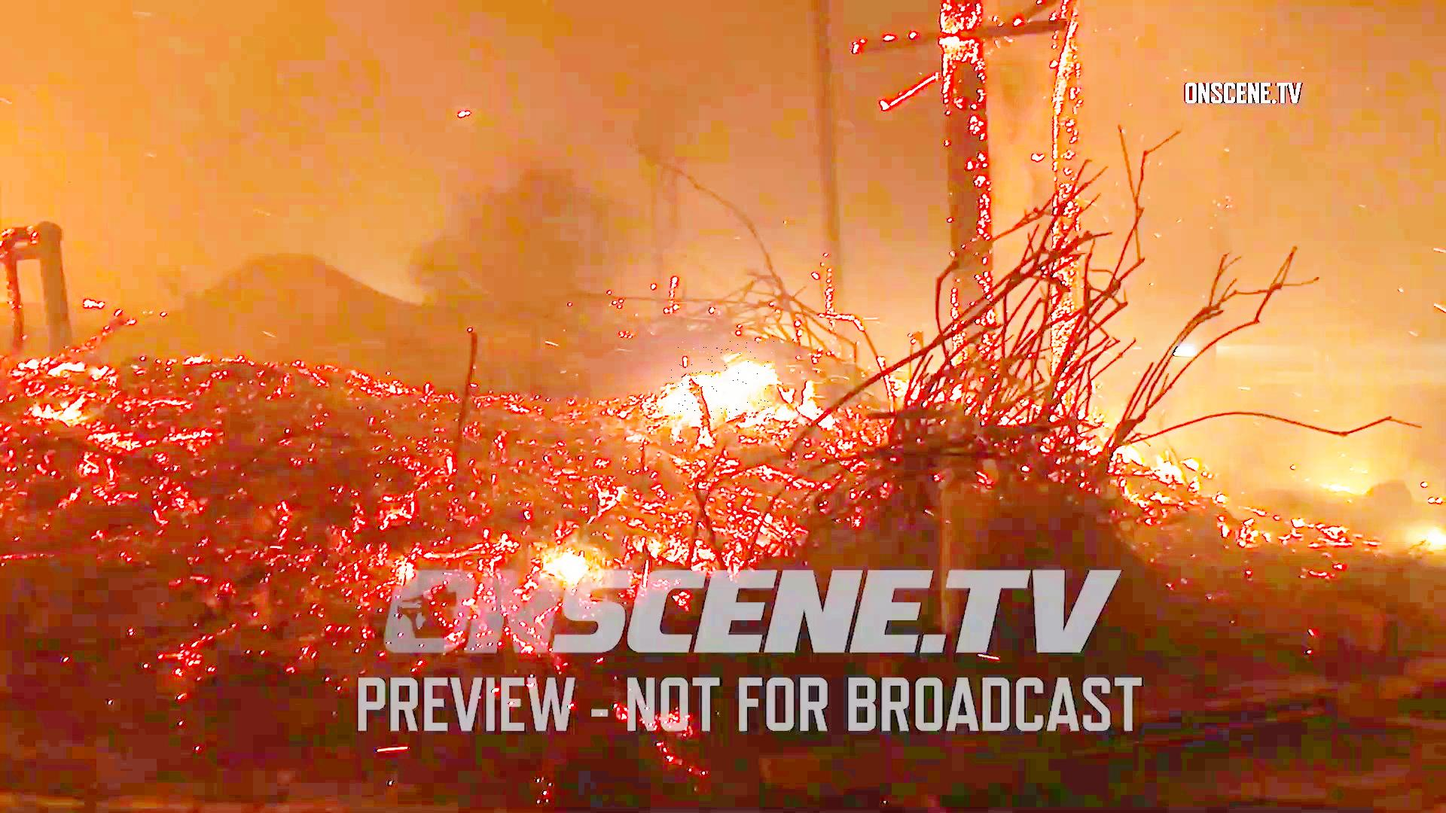fire: (670, 341, 775, 420)
